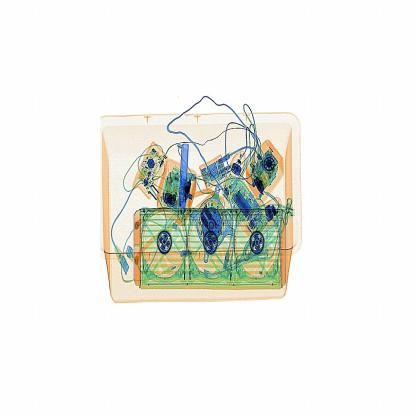pliers: (171, 136, 209, 218)
